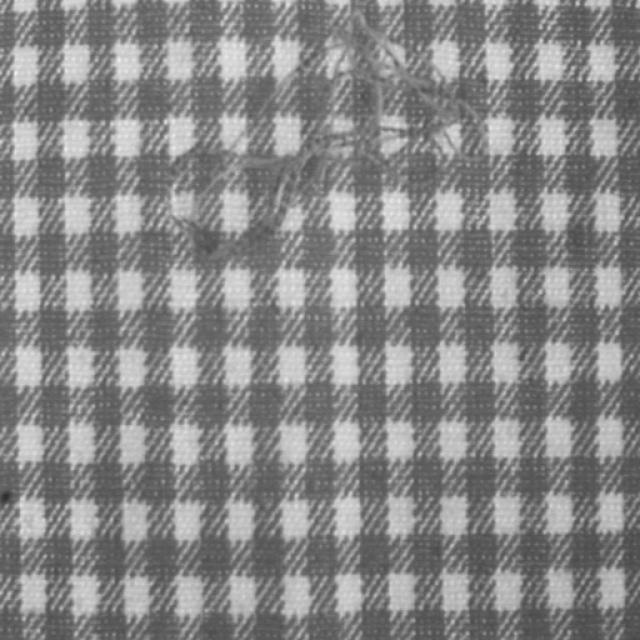Foreign-Body-Defect: (168, 0, 479, 255)
